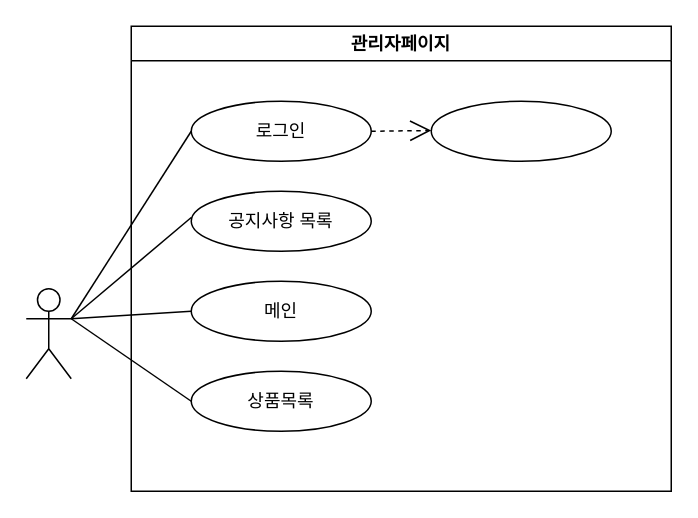
Image size: 698x518. Some labels were removed from this diagram. The shapes that lost their labels are listed below. From the top down, each one's centre as x and y in pixels, then its label:
(x=520, y=130): 로그인 확인
(x=48, y=333): Actor
